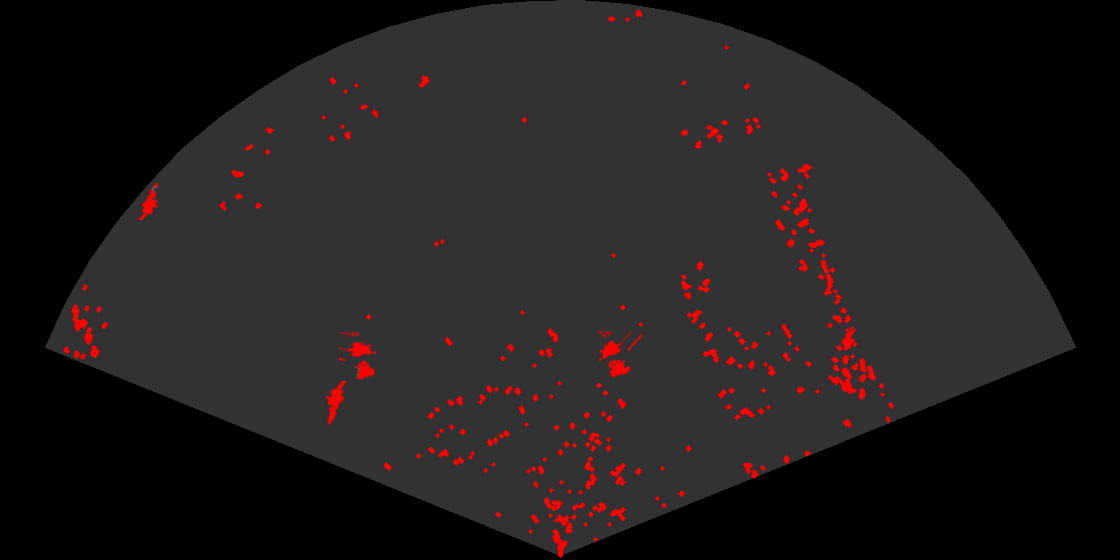AUV: (840, 327, 857, 353)
cage: (596, 331, 642, 379), (339, 332, 378, 381)
frogman: (324, 381, 349, 426), (136, 181, 160, 220)
